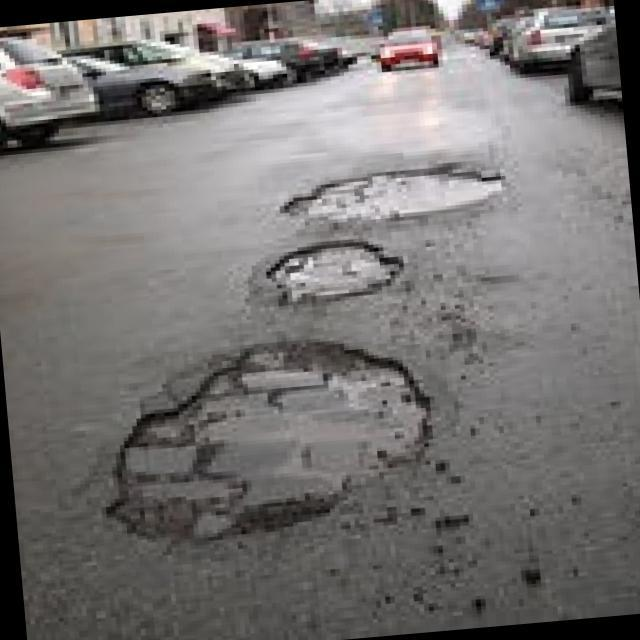Pothole: (59, 290, 562, 576), (246, 156, 544, 240), (254, 226, 460, 294)
